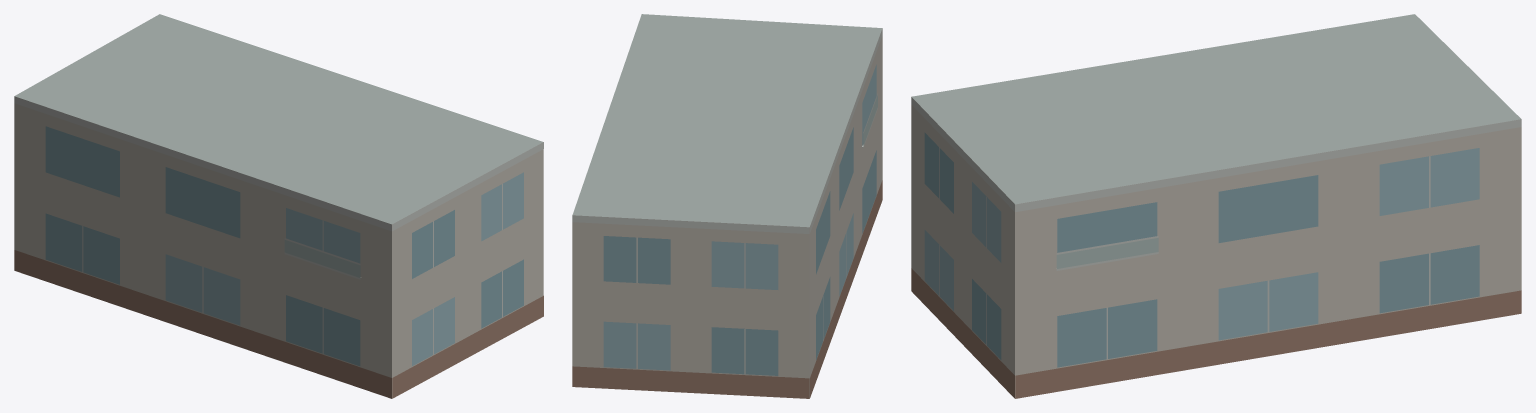
Rendered from survey-upis-32698449.glb.
3 renders of one model, left to right at view 1: azimuth 30°, elevation 25°; view 2: azimuth 150°, elevation 25°; view 3: azimuth 270°, elevation 25°, orthographic. The views are drawn at different scales.
Visible parts, largest first — view 1: survey-upis-32698449.tmp; view 2: survey-upis-32698449.tmp; view 3: survey-upis-32698449.tmp.
Boxes of the visible parts, <box> form: survey-upis-32698449.tmp: <box>14,14,543,398</box>; survey-upis-32698449.tmp: <box>572,14,882,398</box>; survey-upis-32698449.tmp: <box>911,14,1521,398</box>.
Size of the model in its own units: 12.82 by 6.1 by 17.37.
